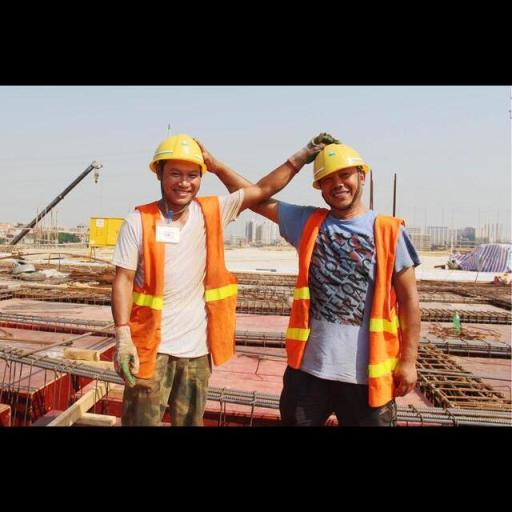Person: (261, 116, 460, 426), (83, 124, 249, 428)
gloves: (104, 315, 153, 393), (277, 128, 348, 176)
helmet: (300, 136, 380, 191), (144, 125, 214, 182)
vest: (271, 202, 438, 411), (111, 188, 247, 394)
